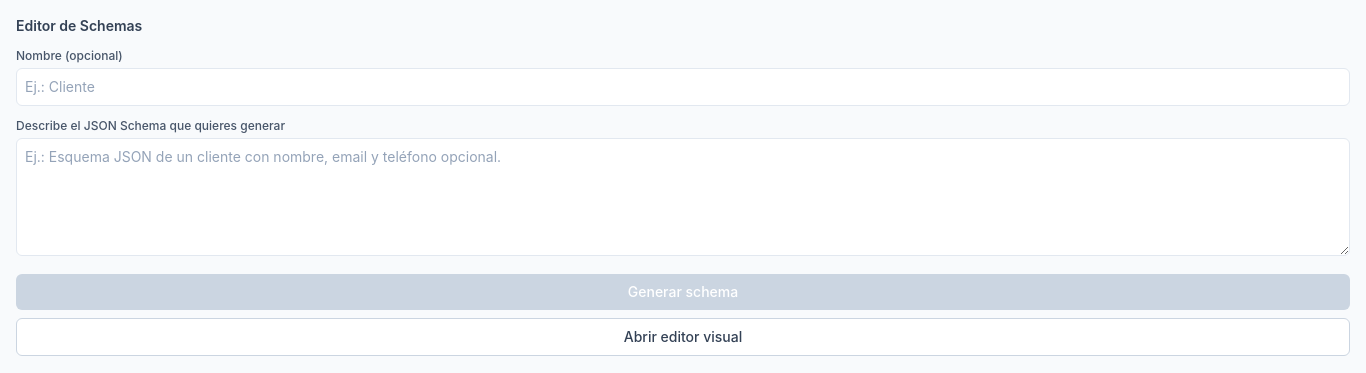
it: DeveloperSchemaPanel › vuelve al formulario JSON desde el editor visual
The image size is (1366, 373).
Click the button "Abrir editor visual".
click(683, 337)  # box 16,318 -> 1350,356
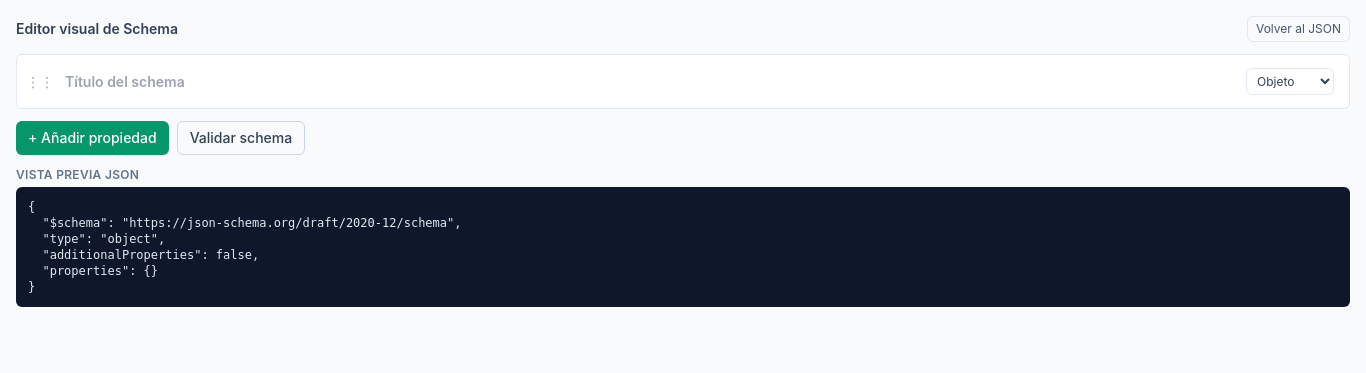
Check: the heading "Editor visual de Schema" is shown, box 16,19 -> 178,39
Click the button "Volver al JSON".
click(1298, 29)  # box 1247,16 -> 1350,42
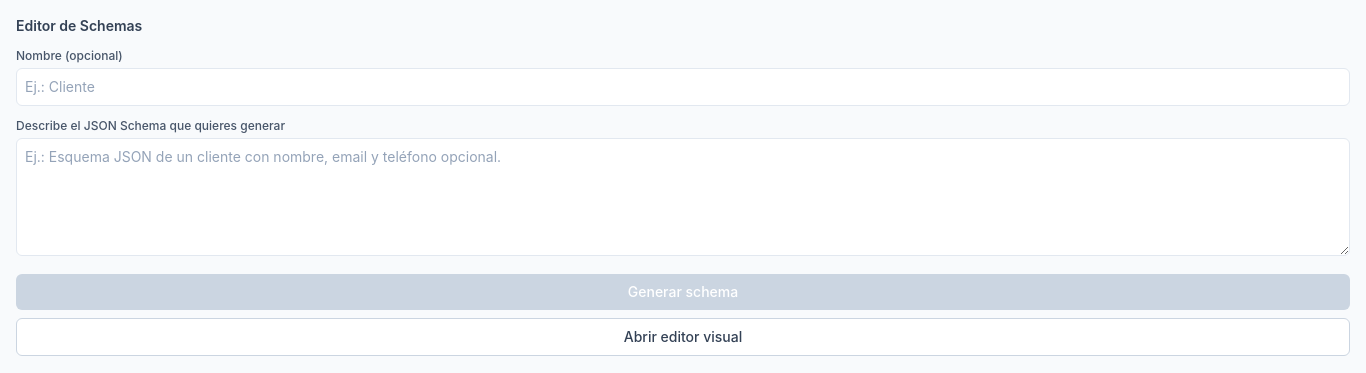
Check: the heading "Editor de Schemas" is shown, box 16,17 -> 142,34
